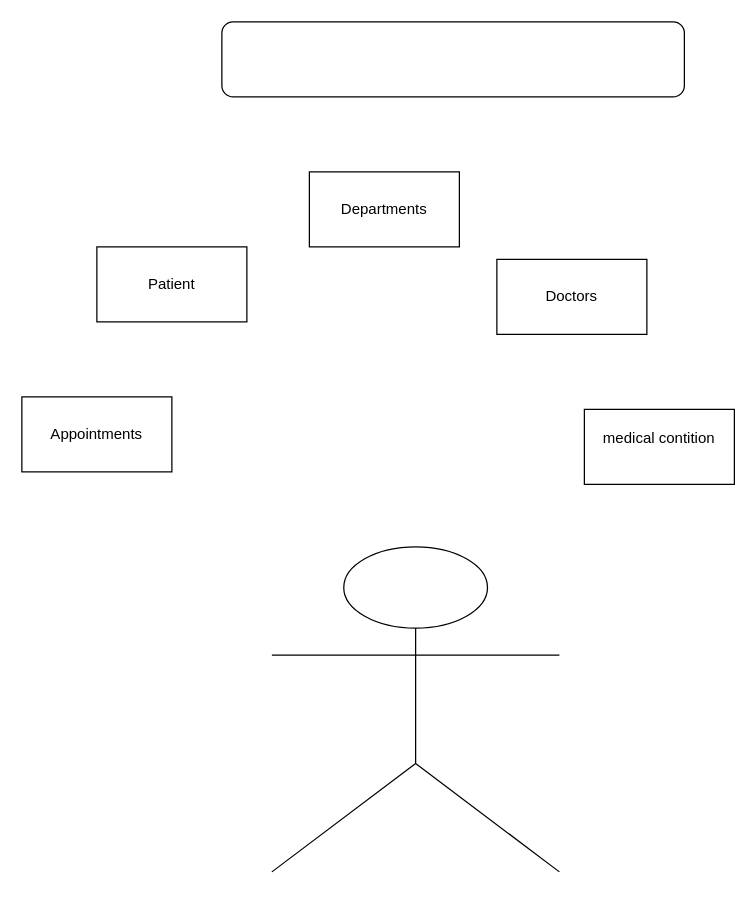
This 756x920 diagram has some shape labels left out. Here are the shapes that lost their labels. From the top down, the box of each, then its label:
(221, 21, 684, 97): Database for a hostpital
(271, 546, 559, 872): Actor
